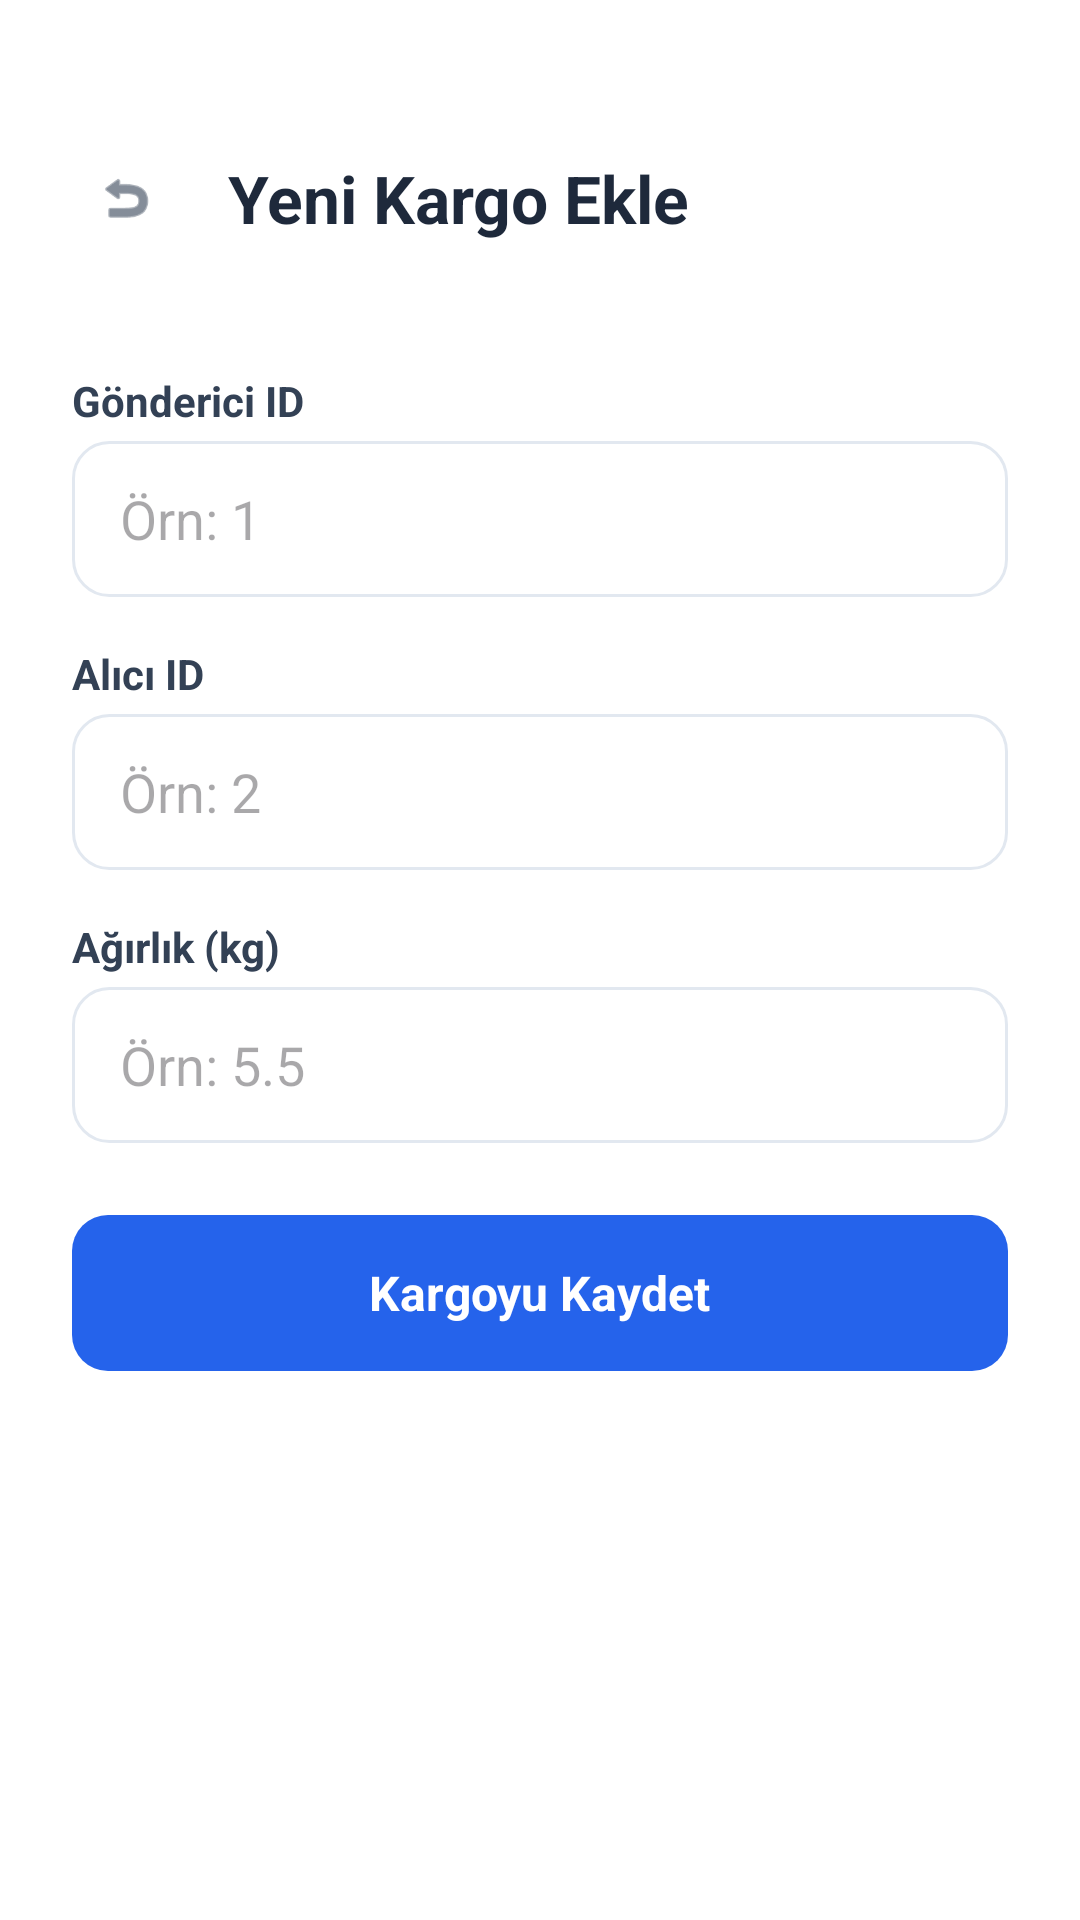

Named icons in this screenshot (1080px×1920px) and their bounding boxes, bbox=[x1, y1, x2, y2]:
revert: bbox=[105, 179, 148, 218]
